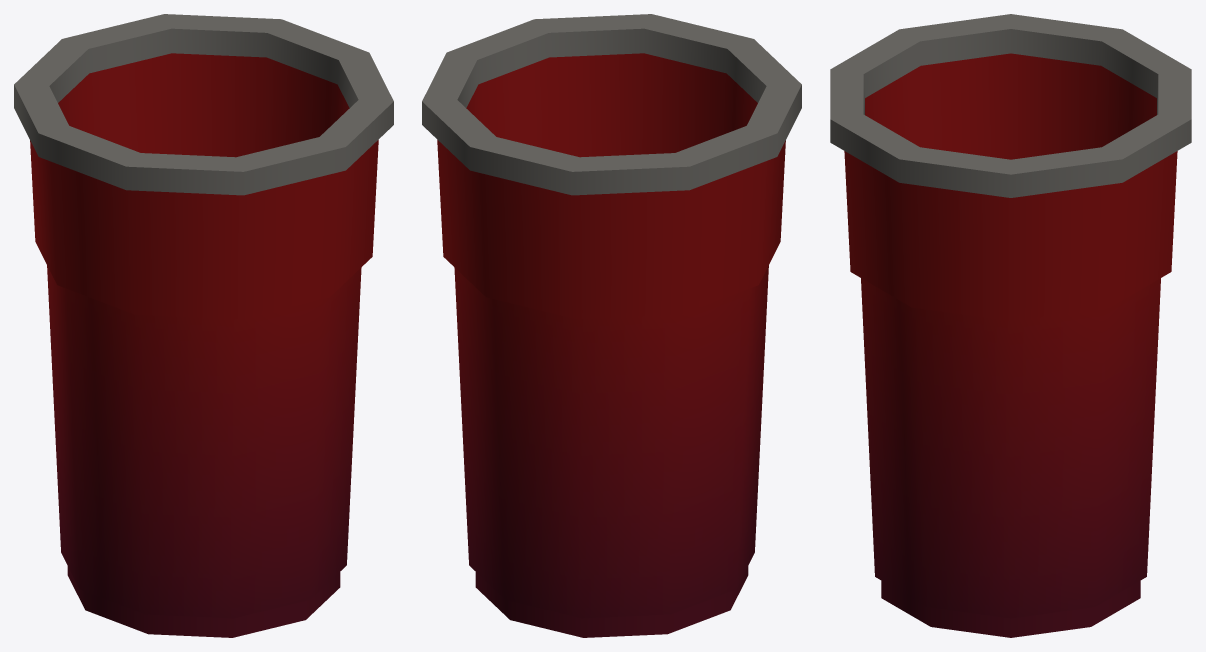
Rendered from RedCup.fbx.
3 views of the same model, side by side, from view 1: azimuth 30°, elevation 25°; view 2: azimuth 150°, elevation 25°; view 3: azimuth 270°, elevation 25° (orthographic).
Parts seen in each view (by area): view 1: RedCup_GEO; view 2: RedCup_GEO; view 3: RedCup_GEO.
Boxes of the visible parts, x1,y1,x2,y2 form: RedCup_GEO: (14,14,393,637); RedCup_GEO: (422,14,801,637); RedCup_GEO: (830,14,1191,637).
Bounding box in the file's own units: 16.06 × 22.65 × 15.27.
